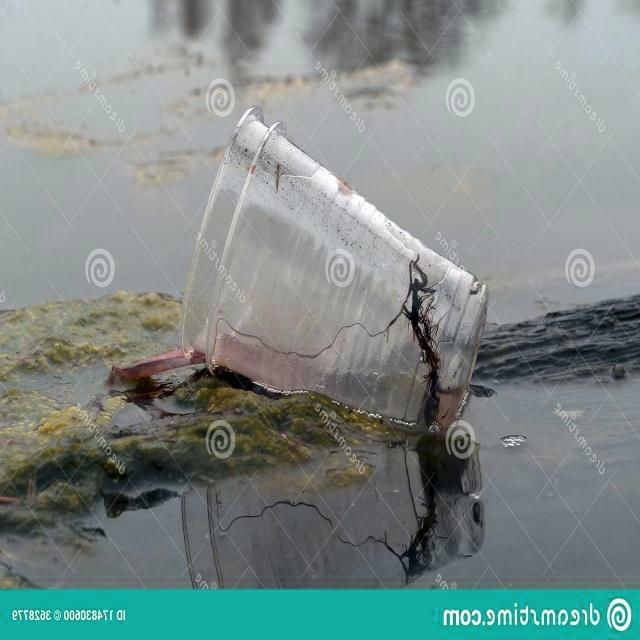Plastic: (173, 96, 490, 434)
